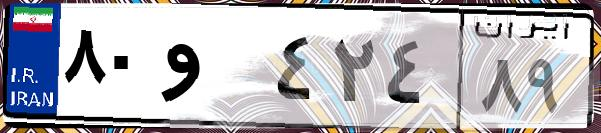0: (110, 28, 158, 98)
2: (330, 28, 385, 110)
4: (270, 28, 330, 110), (385, 28, 445, 110)
8: (57, 26, 110, 100), (475, 38, 525, 113)
9: (525, 38, 570, 115)
و: (158, 20, 270, 120)
